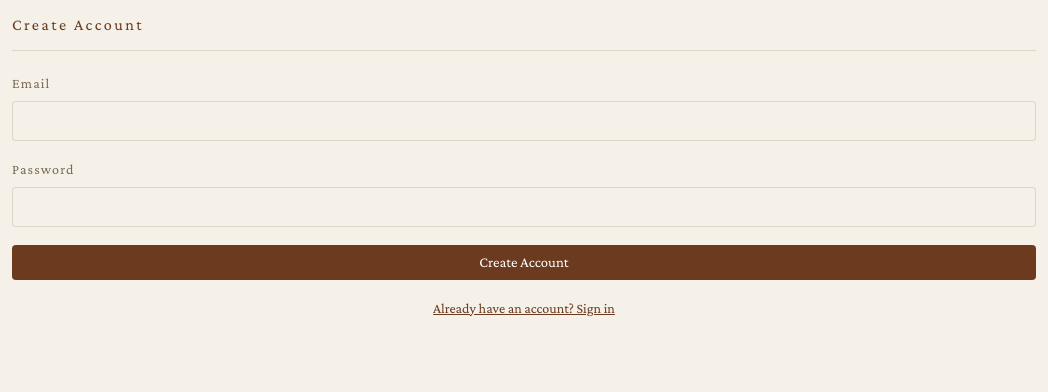
Test: RegisterForm › shows success message on successful registration
This screenshot has width=1048, height=392.
In the field: (524, 121) [12, 101, 1036, 141], type "new@example.com"
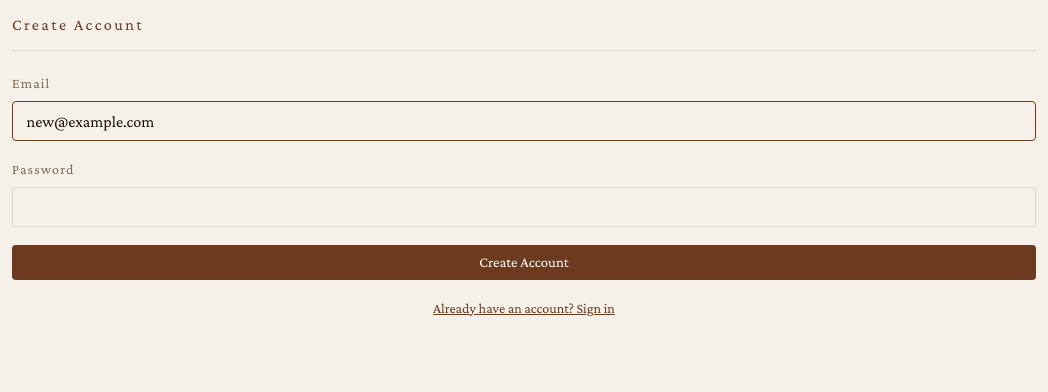
In the password field: (524, 207) [12, 187, 1036, 228], type "password123"
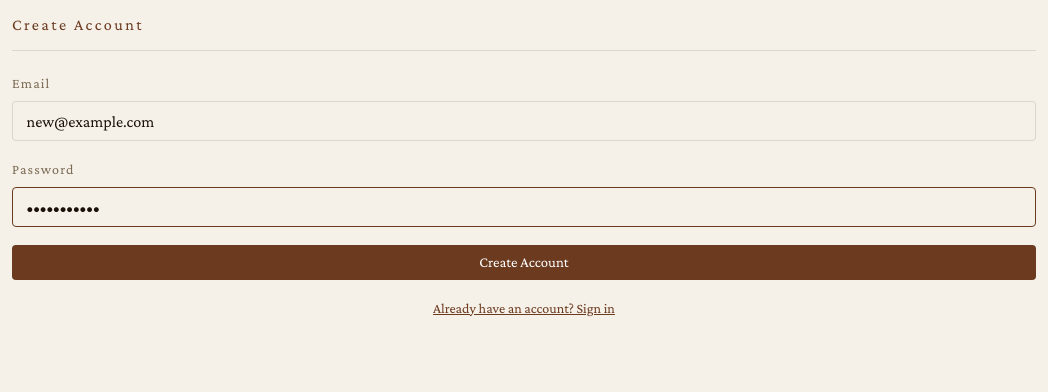
Click the button "Create Account": (524, 263) [12, 246, 1036, 280]
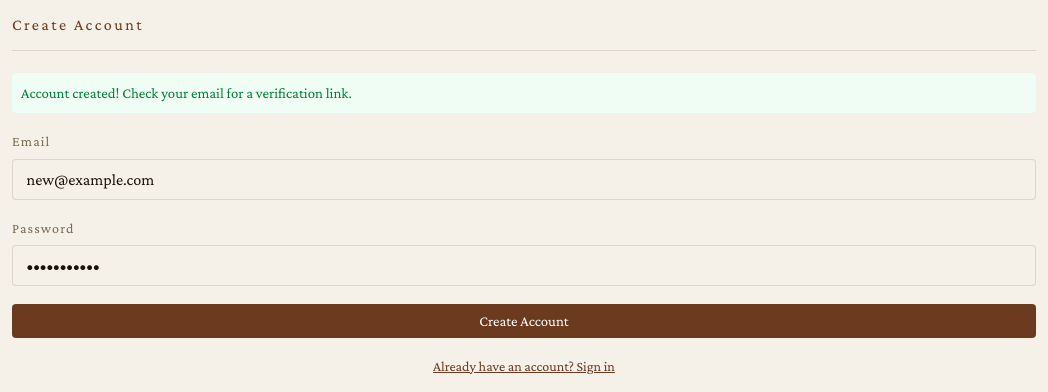
Check: the text "Account created! Check your email for a verification link." is shown, box [12, 73, 1036, 113]
